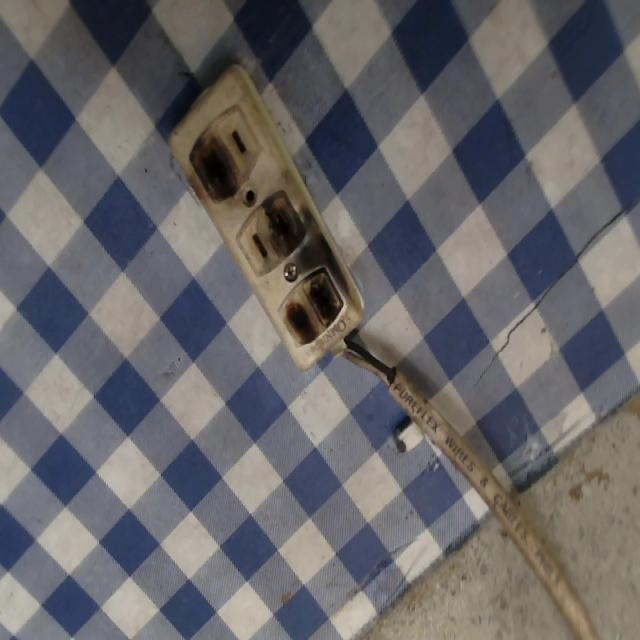-: (276, 271, 342, 348), (257, 177, 313, 259), (185, 124, 241, 205)
